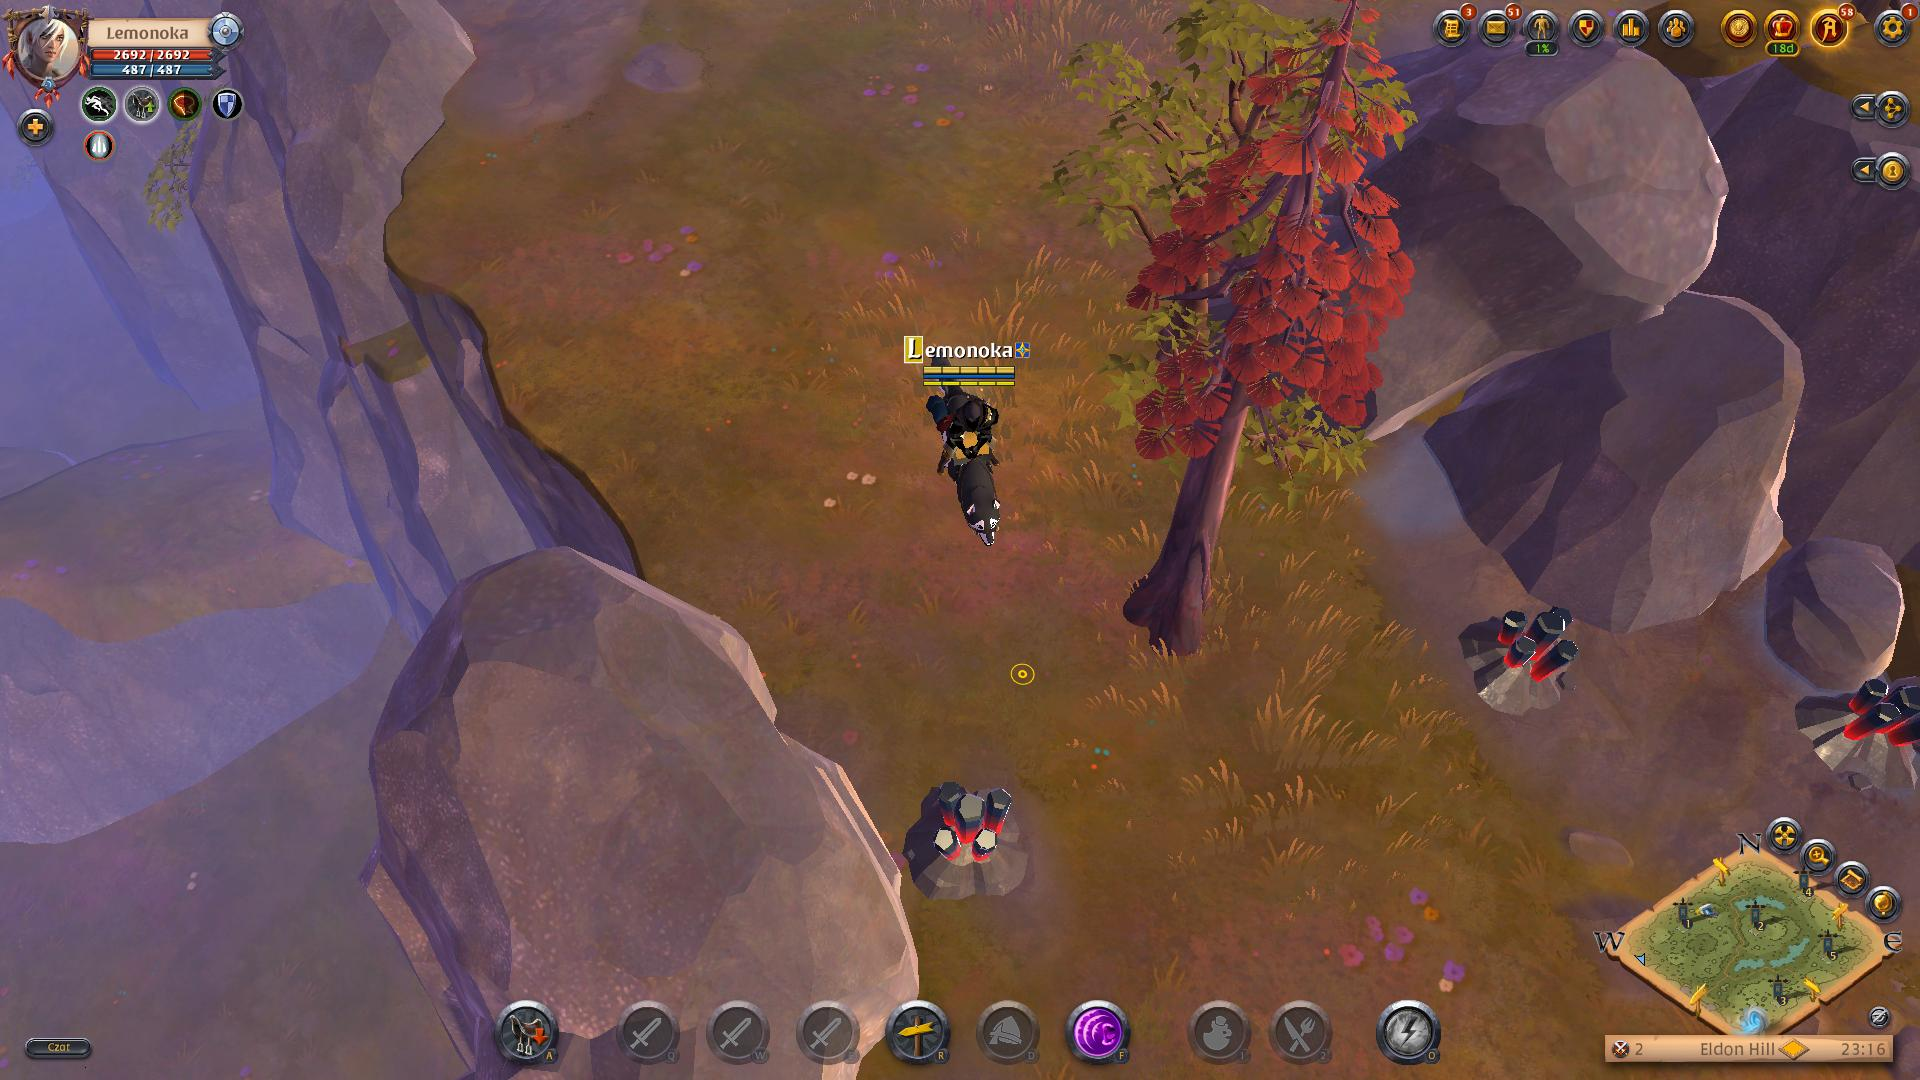ore tier 5: (899, 777, 1035, 903), (1793, 675, 1920, 798), (1460, 599, 1584, 715)
wood tier 5: (1124, 0, 1423, 469)
